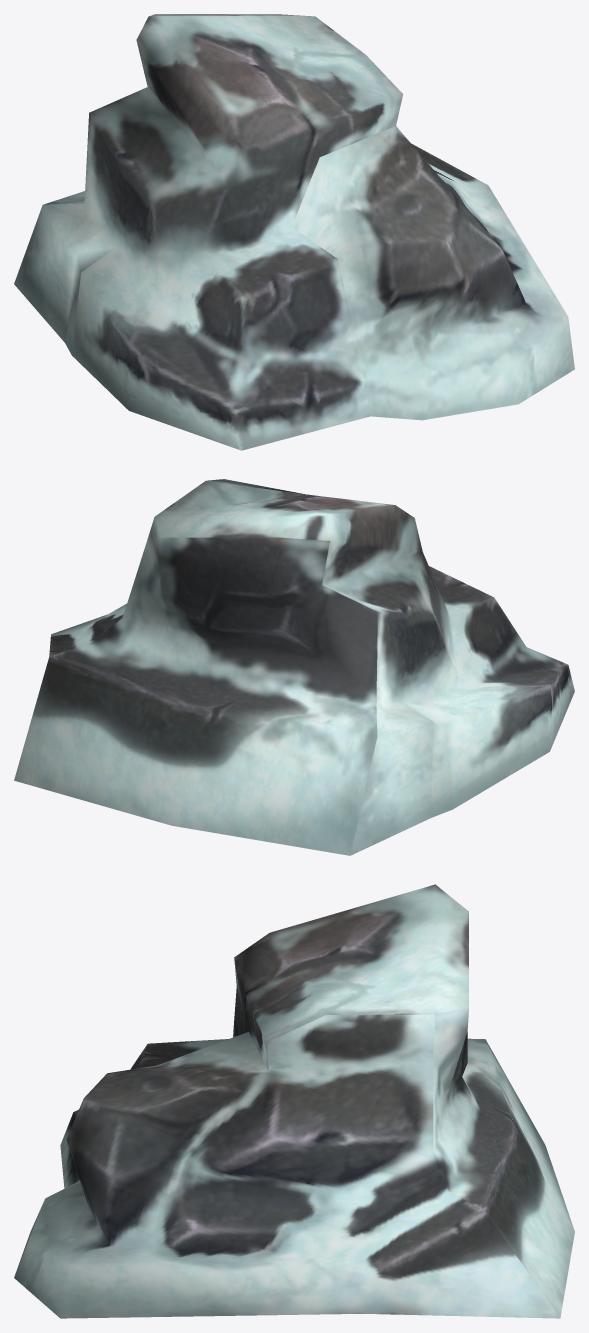
File: xs_shanshi1.FBX
The picture shows the model from 3 angles, top to bottom: view 1: azimuth 30°, elevation 25°; view 2: azimuth 150°, elevation 25°; view 3: azimuth 270°, elevation 25°; orthographic projection. The views are drawn at different scales.
Visible parts, largest first — view 1: Object07; view 2: Object07; view 3: Object07.
Boxes of the visible parts, x1,y1,x2,y2 form: Object07: (14, 14, 574, 450); Object07: (14, 479, 574, 855); Object07: (14, 884, 574, 1318).
Size of the model in its own units: 152 by 97.82 by 160.
